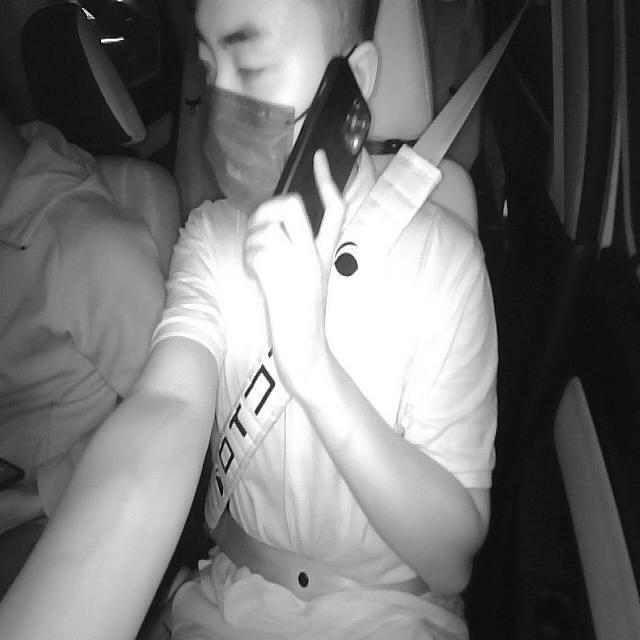phone: (270, 56, 371, 246)
